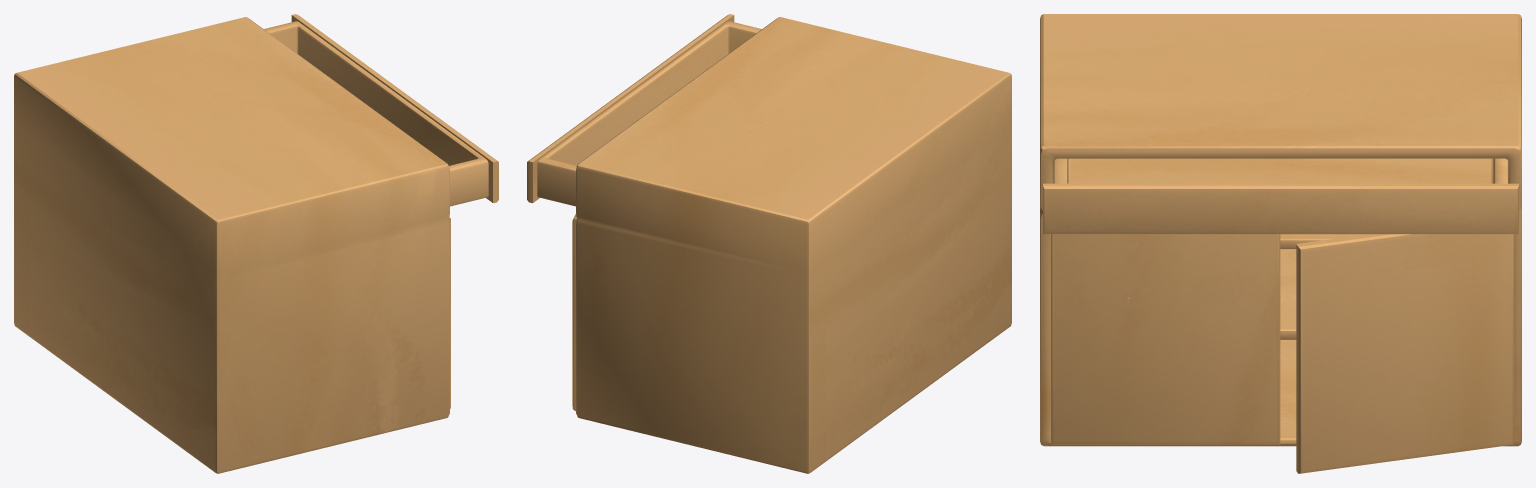
File: TableTextured.glb
3 views of the same model, side by side, from view 1: azimuth 30°, elevation 25°; view 2: azimuth 150°, elevation 25°; view 3: azimuth 270°, elevation 25° (orthographic). The views are drawn at different scales.
Visible parts, largest first — view 1: Cube.008; view 2: Cube.008; view 3: Cube.008.
Part boxes in pixels (bbox=[...]): Cube.008: bbox=[14, 14, 498, 473]; Cube.008: bbox=[527, 14, 1011, 473]; Cube.008: bbox=[1040, 14, 1521, 473].
Bounding box in the file's own units: 9.1 × 7.61 × 11.08.
2 materials, 2 textured.
